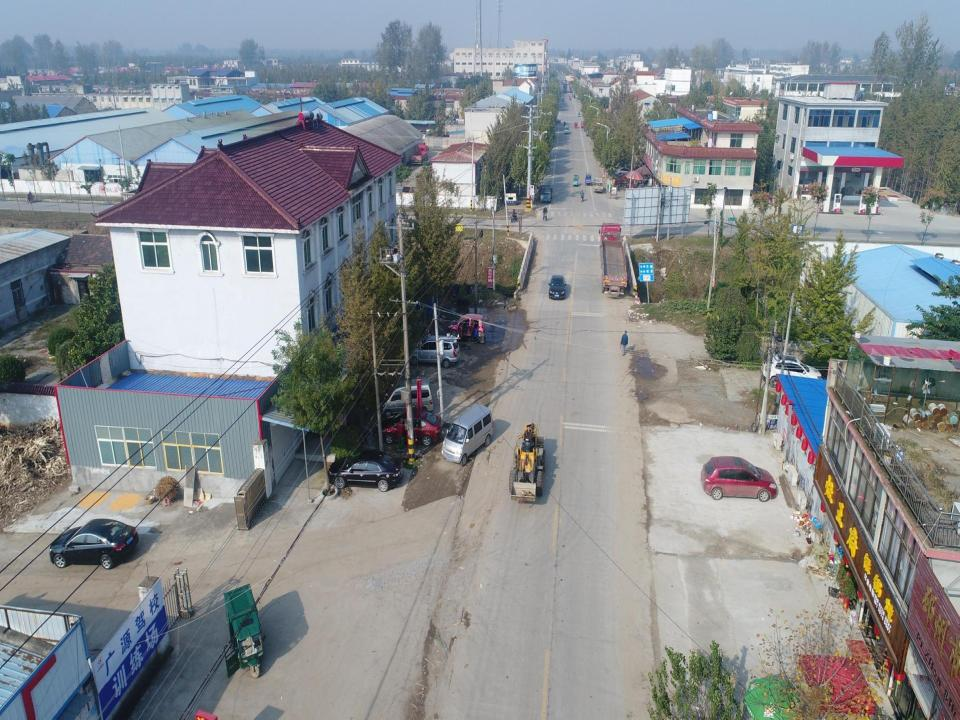car: (47, 518, 140, 571), (699, 454, 781, 503), (328, 446, 404, 496), (376, 409, 442, 445), (761, 356, 823, 388), (450, 315, 484, 341), (547, 272, 569, 302)
truck: (598, 222, 632, 301), (538, 178, 553, 203), (593, 177, 603, 194), (562, 83, 568, 93)
van: (440, 402, 502, 466), (409, 335, 466, 369), (382, 388, 434, 412), (564, 124, 568, 134)
